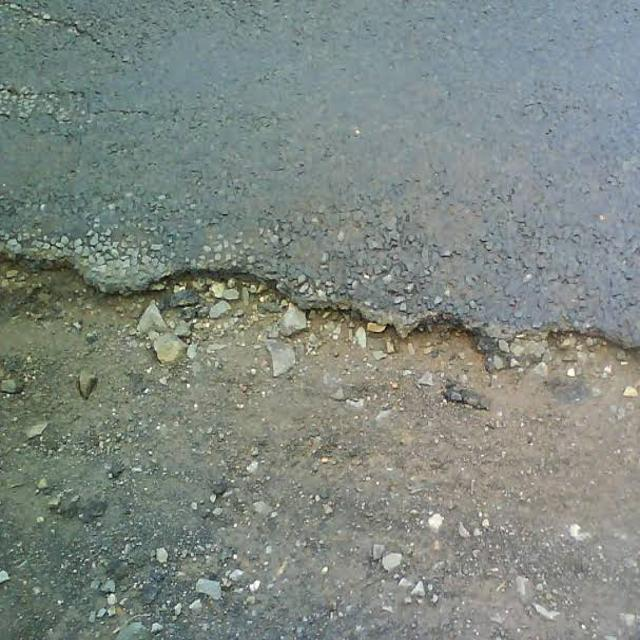Melintang: (0, 218, 640, 380)
